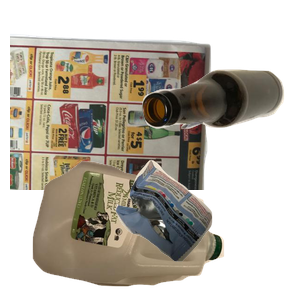glass: (140, 67, 300, 188)
paper: (10, 31, 214, 211)
plastic: (30, 159, 247, 300)
trash: (113, 157, 300, 300)
